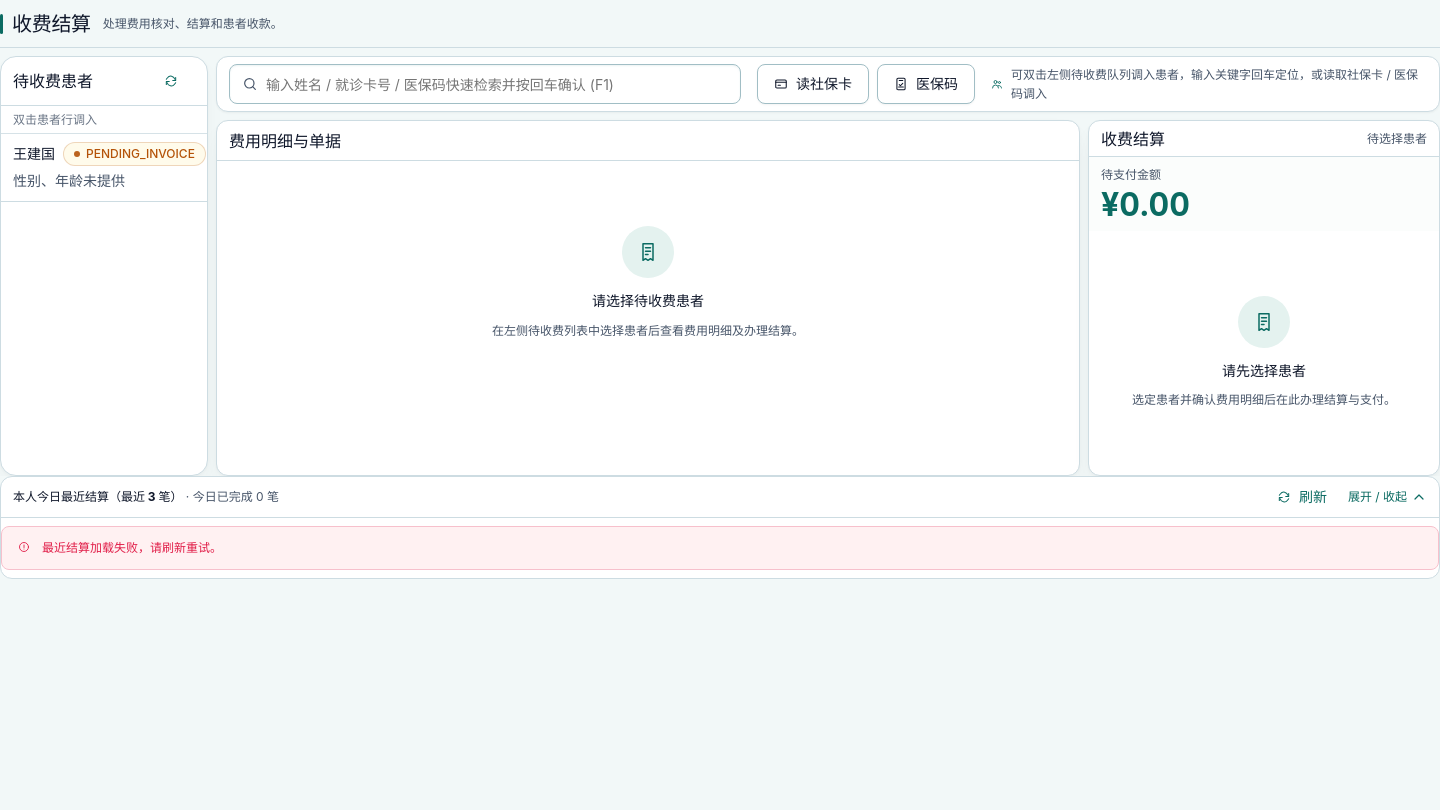
Test: BillingWorkspace deep link › stops before collecting when post-insurance relief awaits confirmation
Double-click the button "王建国 PENDING_INVOICE 性别、年龄未提供": (104, 168) [1,134,207,202]
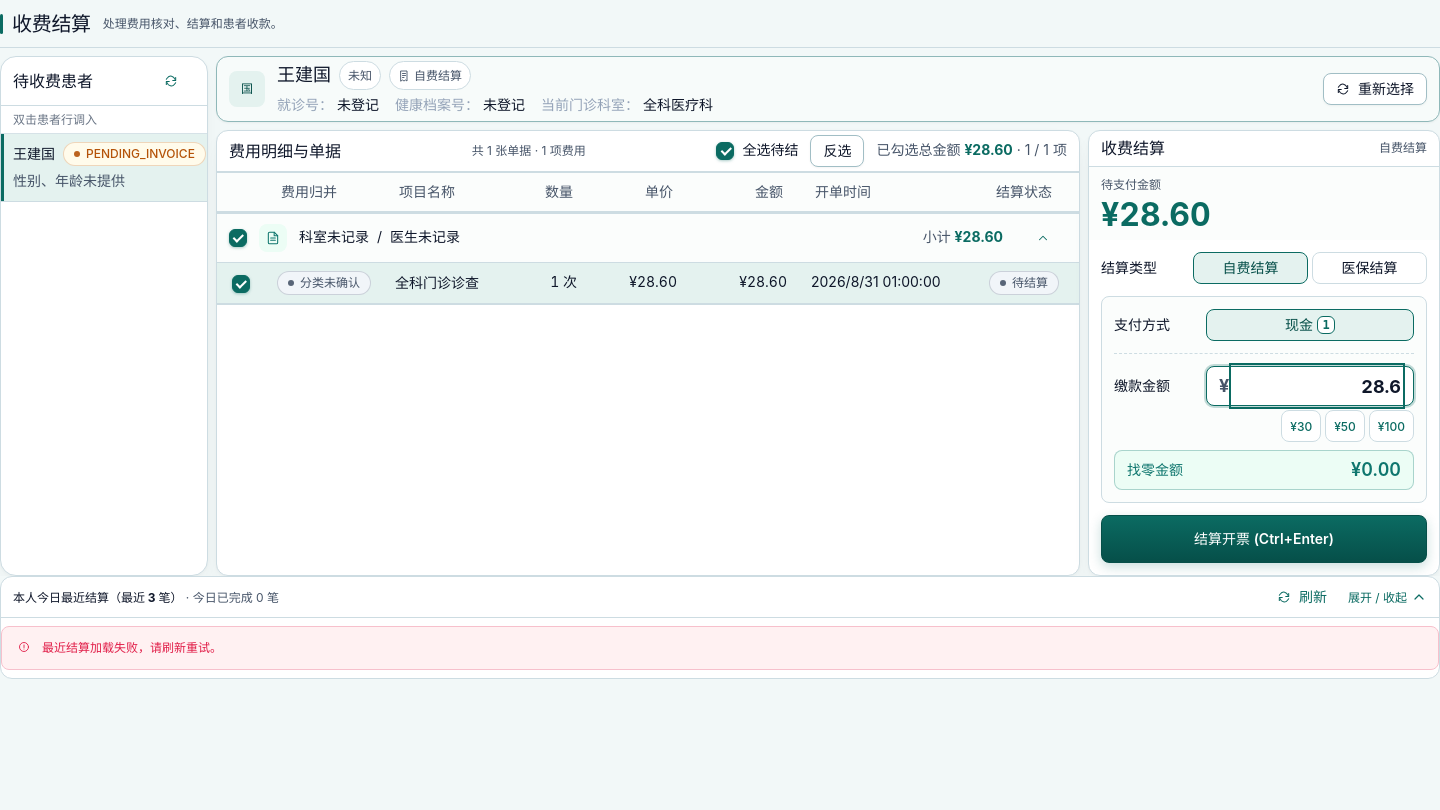
Expected: the number field with placeholder "28.6" holds "28.6", [1233,367,1401,405]
Expected: the button "结算开票 (Ctrl+Enter)" is enabled
Click the button "结算开票 (Ctrl+Enter)": (1264, 539) [1101,515,1427,563]
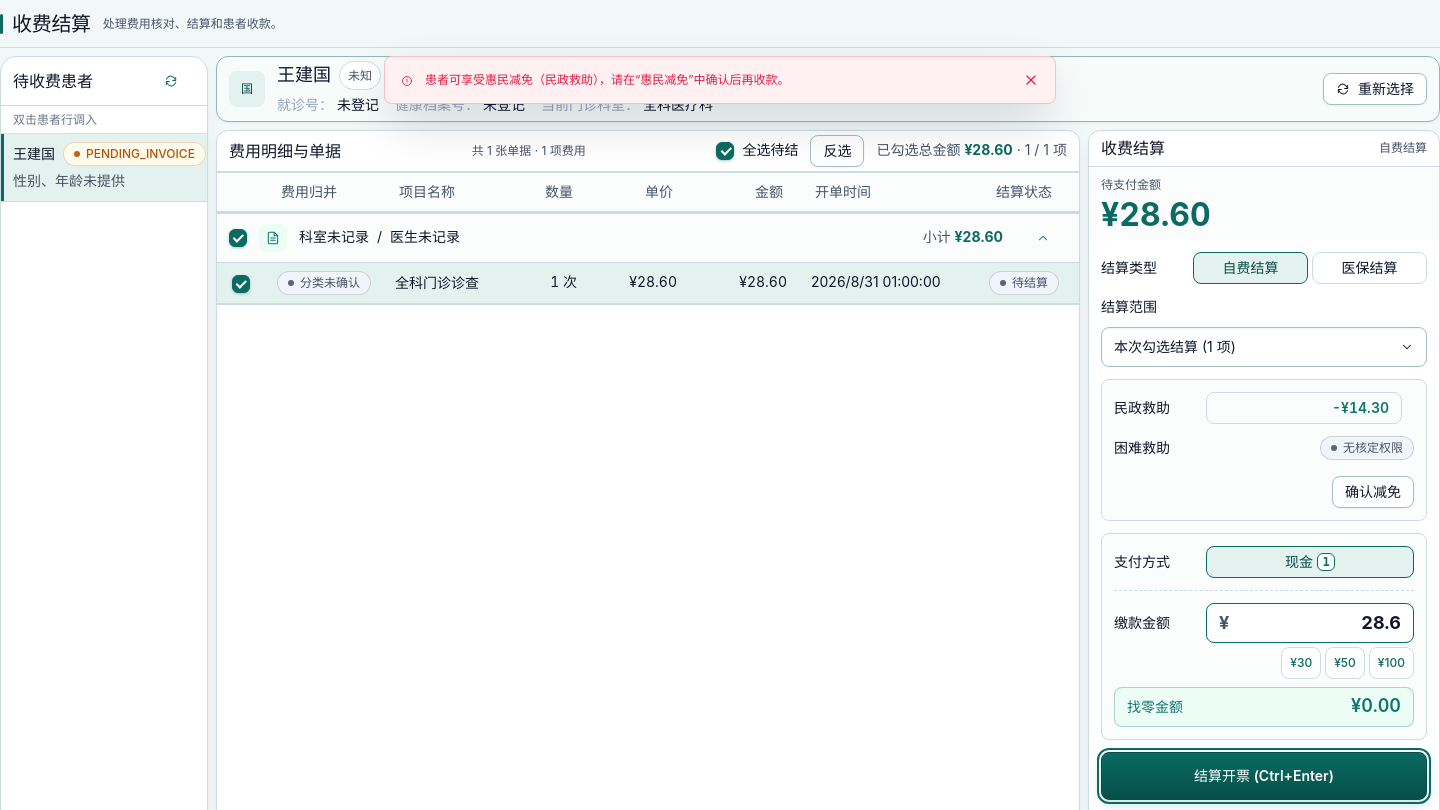
Expected: the text "患者可享受惠民减免（民政救助），请在“惠民减免”中确认后再收款。" is shown, [425,72,790,87]
